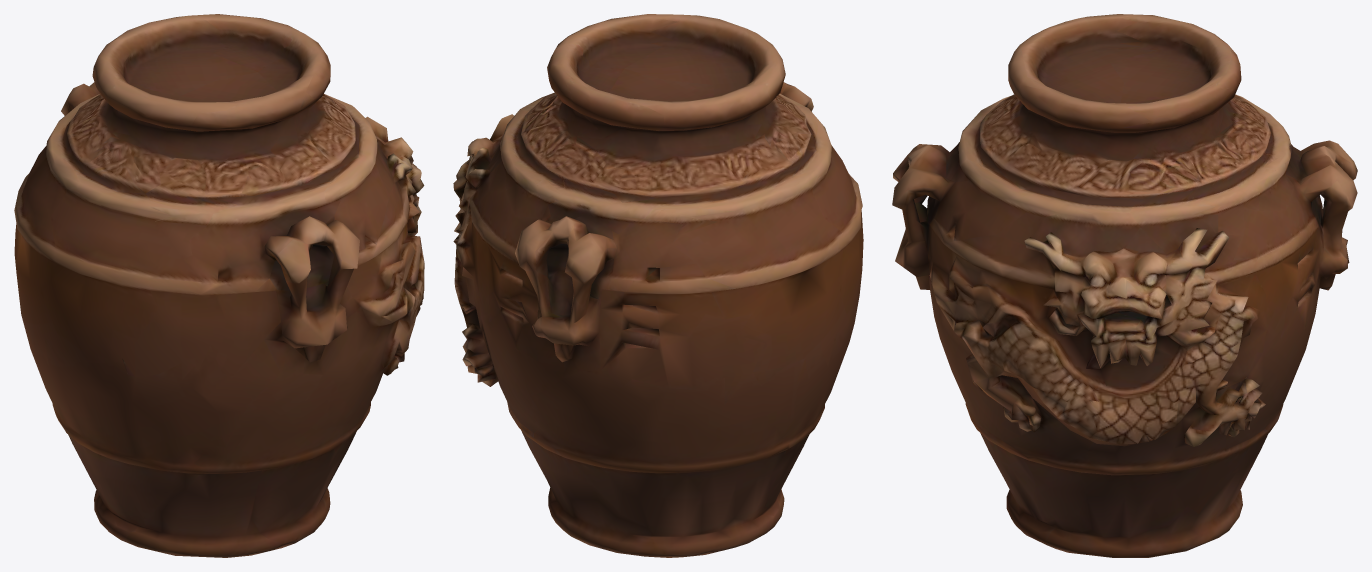
Rendered from jar.glb.
3 renders of one model, left to right at view 1: azimuth 30°, elevation 25°; view 2: azimuth 150°, elevation 25°; view 3: azimuth 270°, elevation 25°, orthographic.
Visible parts, largest first — view 1: tripo_node_d8f839d0-822a-4c5a-af51-580c45c97f7e; view 2: tripo_node_d8f839d0-822a-4c5a-af51-580c45c97f7e; view 3: tripo_node_d8f839d0-822a-4c5a-af51-580c45c97f7e.
Part boxes in pixels (x1,y1,x2,y2): tripo_node_d8f839d0-822a-4c5a-af51-580c45c97f7e: [14, 14, 424, 557]; tripo_node_d8f839d0-822a-4c5a-af51-580c45c97f7e: [453, 14, 863, 557]; tripo_node_d8f839d0-822a-4c5a-af51-580c45c97f7e: [892, 14, 1357, 557].
Bounding box in the file's own units: 0.3874 × 0.45 × 0.4211.
Materials: 1 (1 with a texture image).
